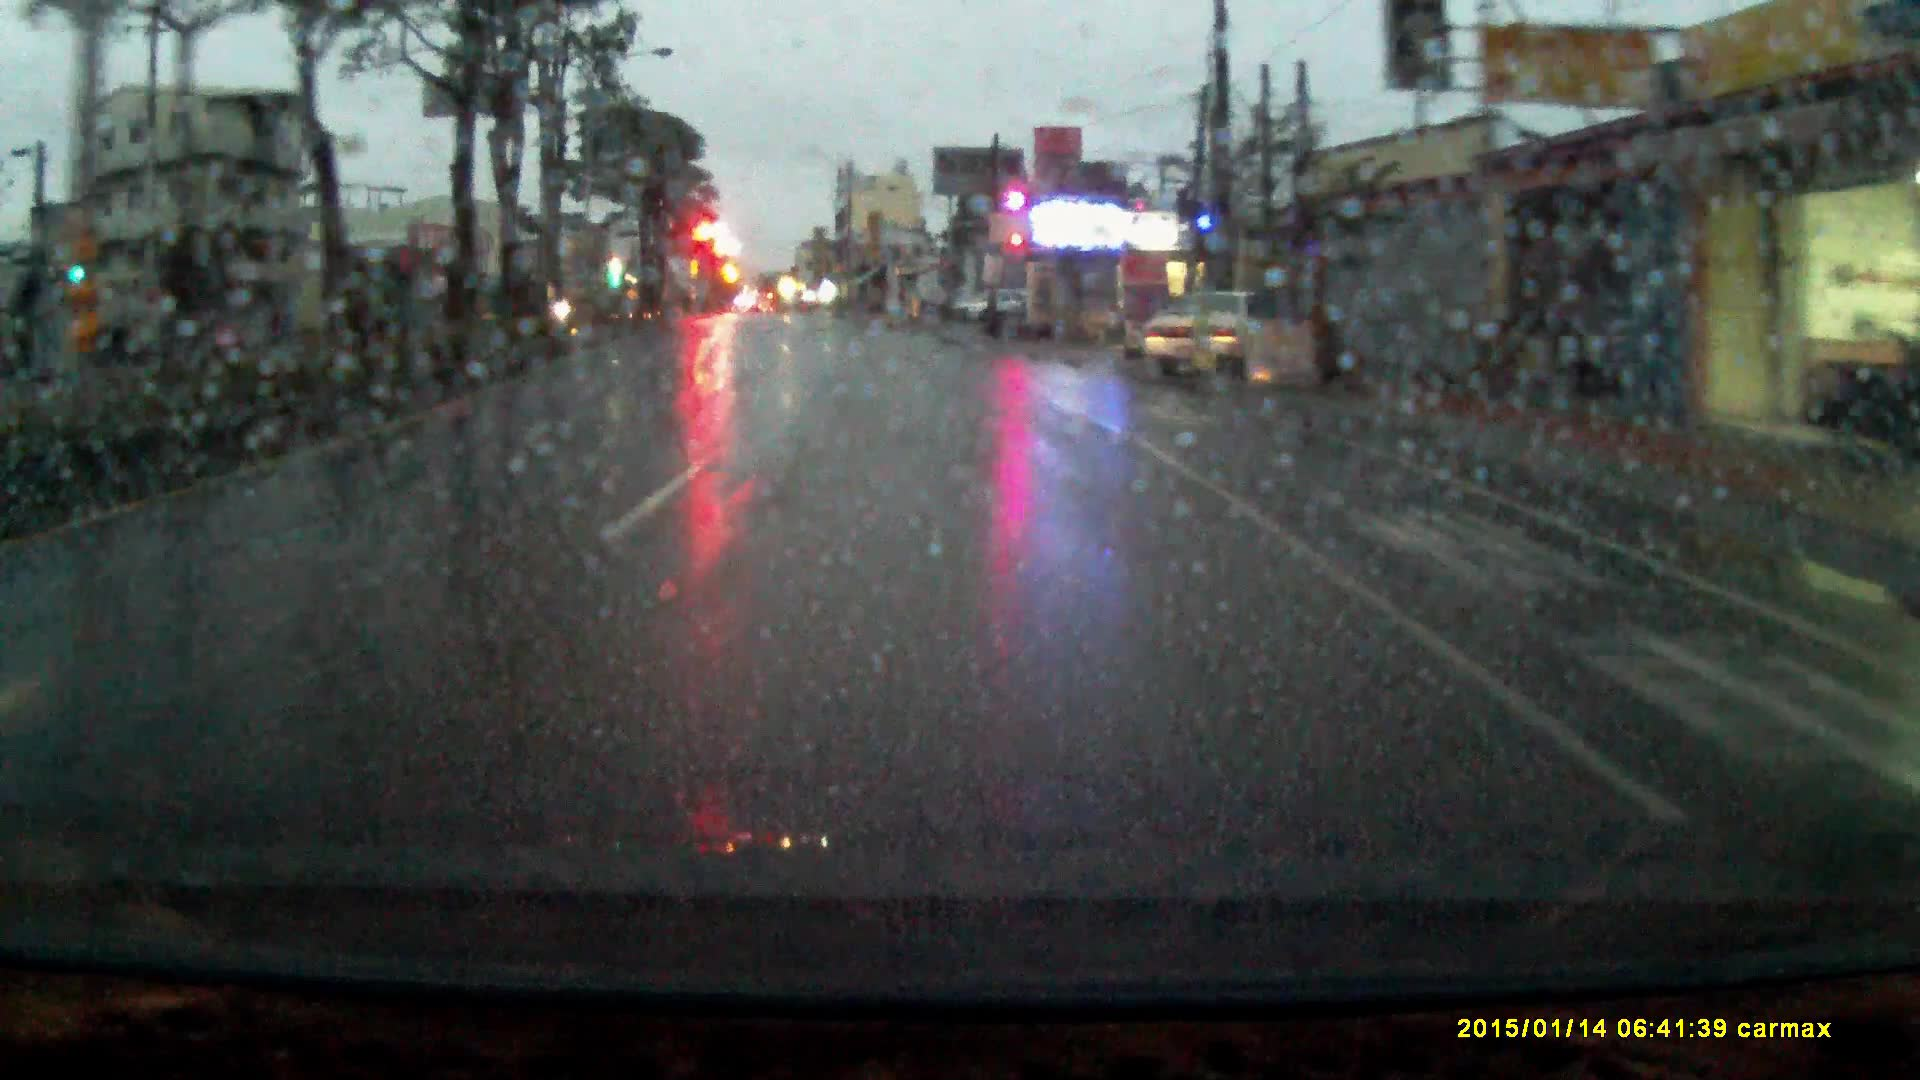vehicle: (1155, 290, 1309, 386), (956, 285, 1035, 322)
